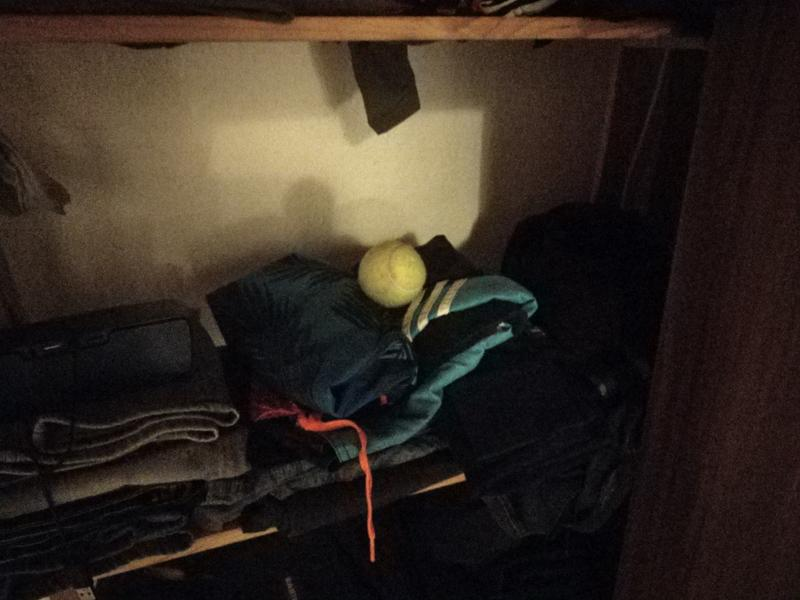Tennisball: (355, 236, 427, 311)
